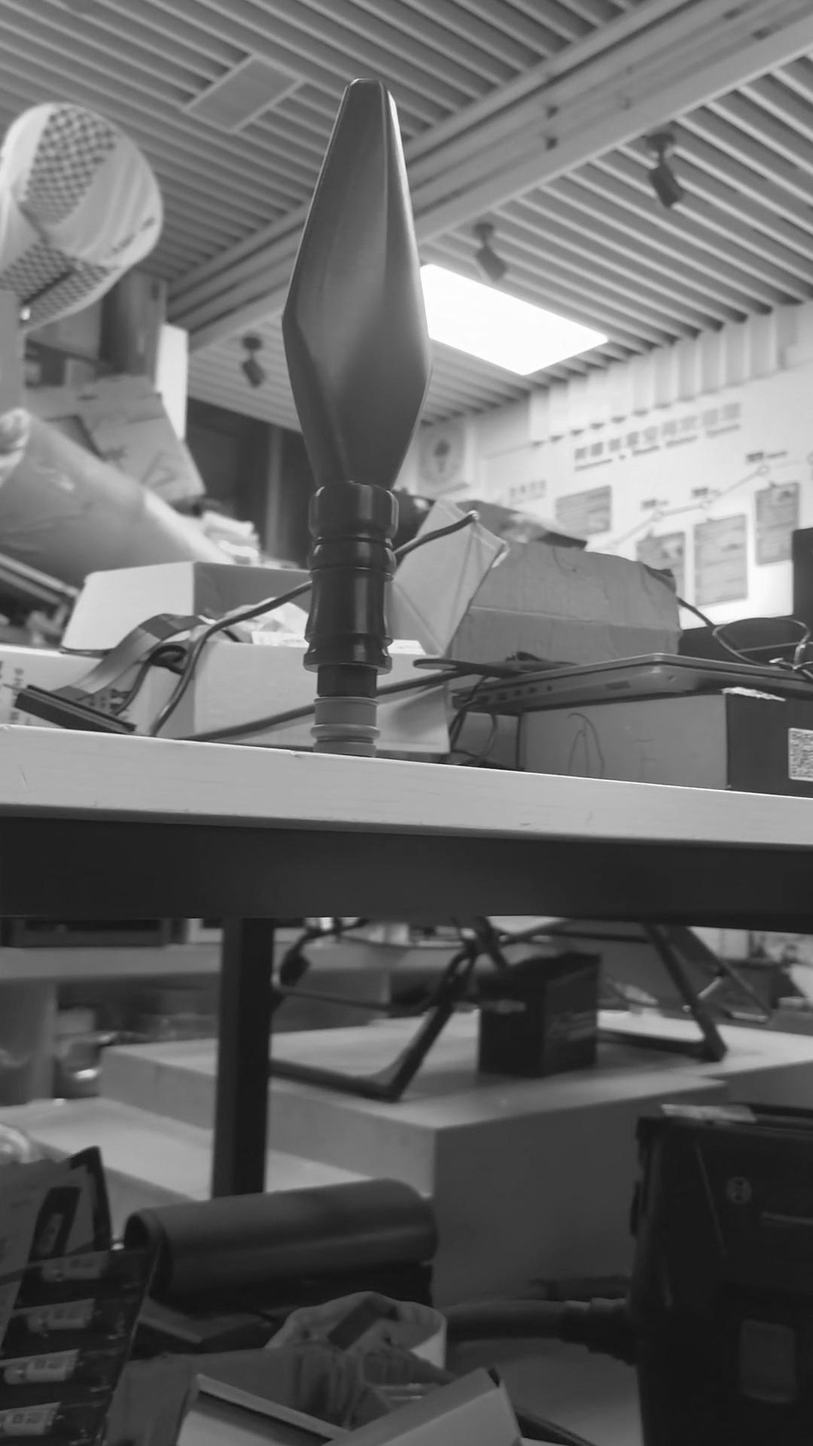base: (306, 686, 392, 768)
